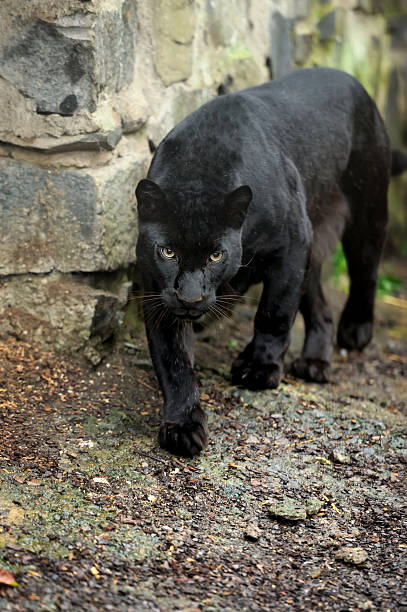panther: (110, 171, 267, 334)
